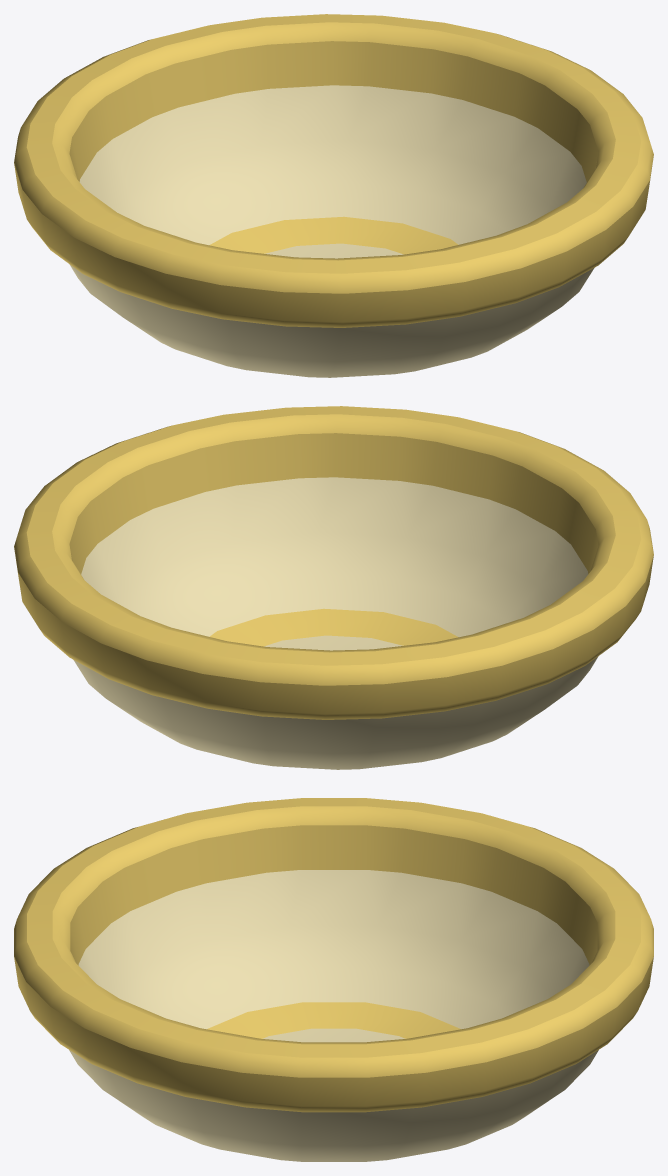
Rendered from Plate 1.fbx.
The picture shows the model from 3 angles, top to bottom: view 1: azimuth 30°, elevation 25°; view 2: azimuth 150°, elevation 25°; view 3: azimuth 270°, elevation 25°; orthographic projection.
Parts seen in each view (by area): view 1: Plate_1; view 2: Plate_1; view 3: Plate_1.
Part boxes in pixels (x1=…): Plate_1: x1=14, y1=14, x2=653, y2=377; Plate_1: x1=14, y1=406, x2=653, y2=769; Plate_1: x1=14, y1=798, x2=653, y2=1161.
Size of the model in its own units: 207 by 62.41 by 207.
